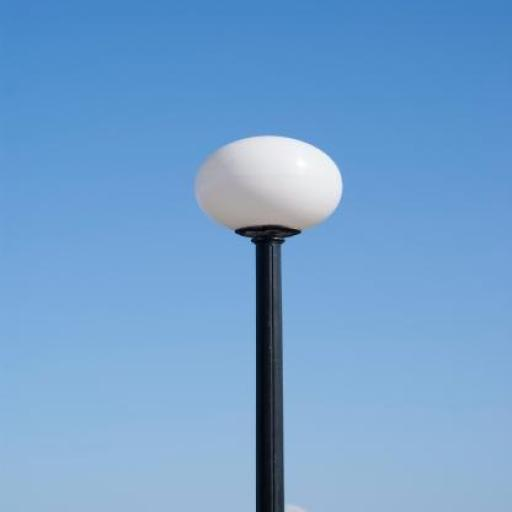street light: (194, 133, 344, 511)
